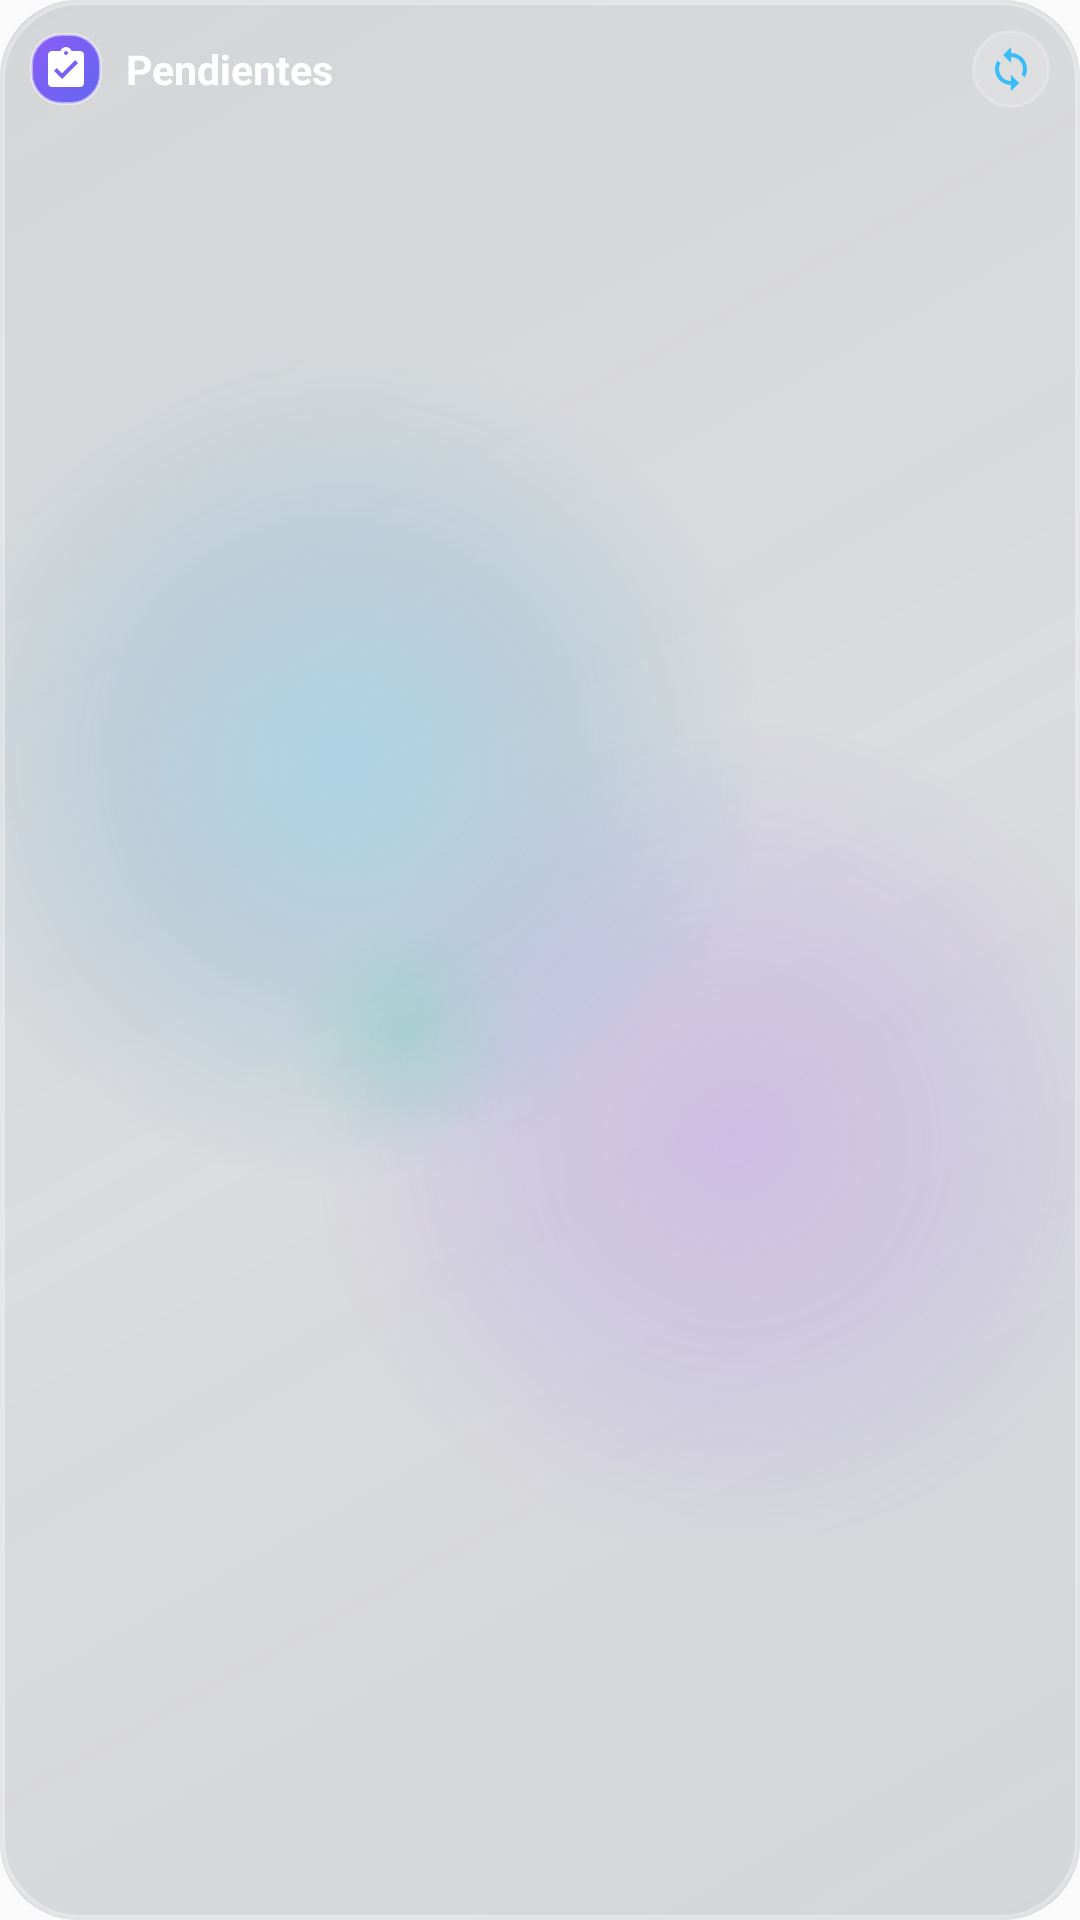

Icons on this 1080×1920 Android screen, each with the point to tap as [x,y]:
Sincronizar: [1011,69]
Tareas: [66,69]
